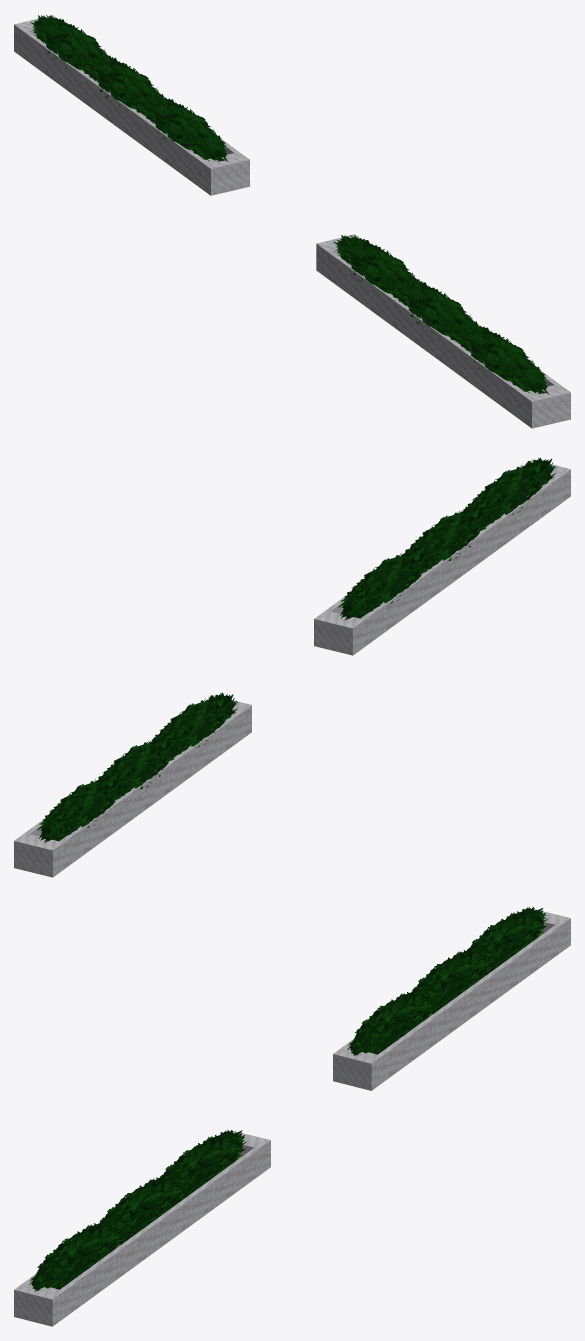
Rendered from bushes1.obj.
3 renders of one model, top to bottom at view 1: azimuth 30°, elevation 25°; view 2: azimuth 150°, elevation 25°; view 3: azimuth 330°, elevation 25°, orthographic.
Parts seen in each view (by area): view 1: Mesh3 Group2 Model, Mesh1 Group1 Model; view 2: Mesh3 Group2 Model, Mesh1 Group1 Model; view 3: Mesh3 Group2 Model, Mesh1 Group1 Model.
Boxes of the visible parts, x1,y1,x2,y2 form: Mesh3 Group2 Model: (316,234,570,428); Mesh1 Group1 Model: (14,15,249,195); Mesh3 Group2 Model: (314,459,570,655); Mesh1 Group1 Model: (14,695,251,877); Mesh3 Group2 Model: (14,1130,270,1326); Mesh1 Group1 Model: (333,909,570,1090).
Bounding box in the file's own units: 1.34 × 3 × 27.76.
5 materials, 1 textured.
